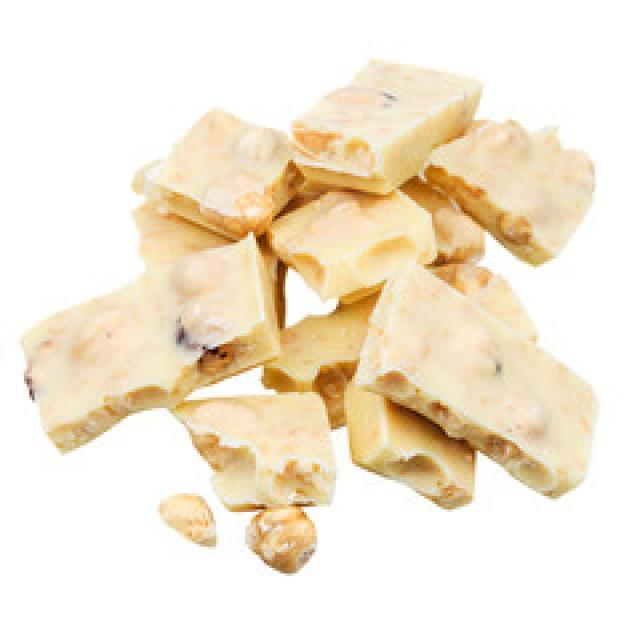Chocolate: (18, 61, 602, 574), (361, 253, 599, 502), (21, 234, 286, 453), (289, 60, 483, 199)
